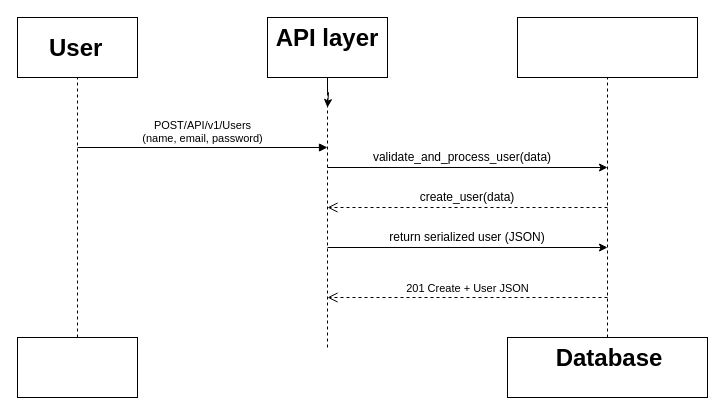
Image size: 725x418. Some labels were removed from this diagram. The centre of each missing label's shape, as x and y in pixels:
"Businesslogic" belongs at pixel 607 47.
"Server" belongs at pixel 77 367.
